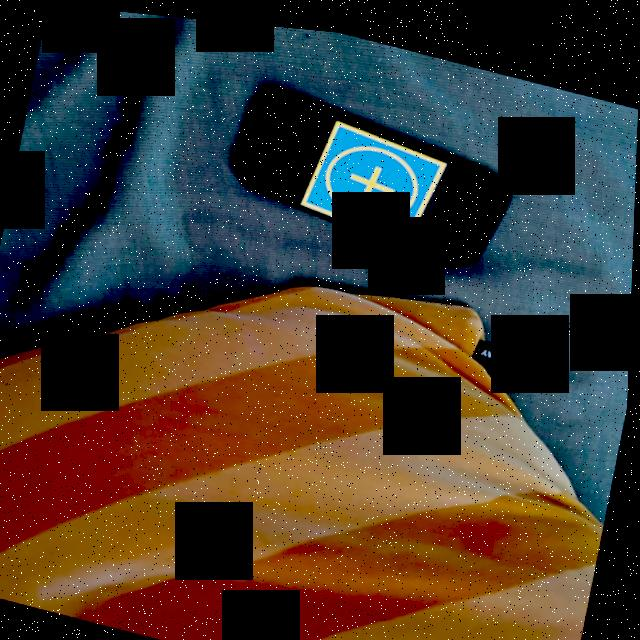Marker: (294, 100, 455, 243)
